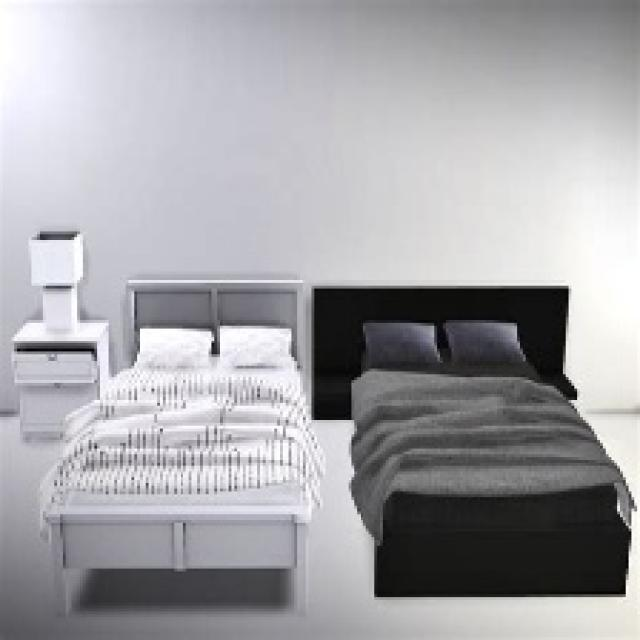Bed: (312, 283, 634, 597), (37, 277, 323, 617)
